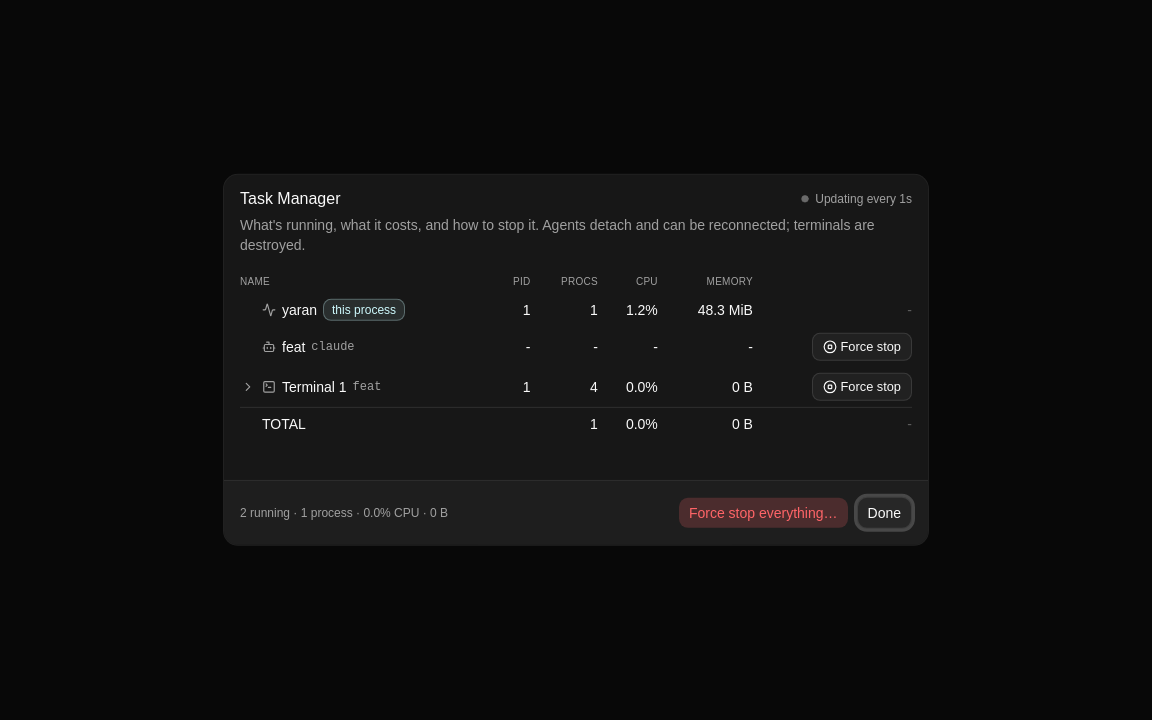
Test: TaskManagerDialog › child_row_renders_its_pid_under_pid_and_an_empty_procs_cell
Click the button named "Show Terminal 1 child processes": (248, 387) [240,379,256,395]
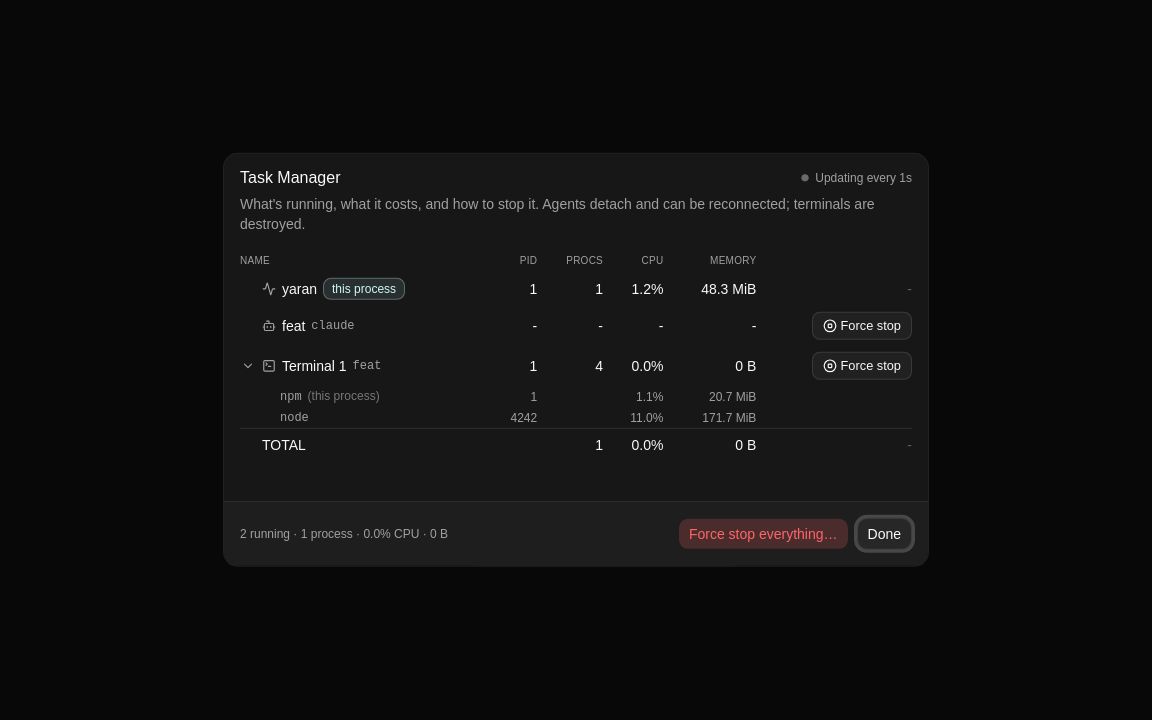
Check: the cell "4242" is shown, box [494,407,545,429]
